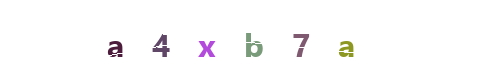4: (166, 0, 246, 80)
7: (205, 0, 285, 80)
A: (150, 0, 230, 80), (306, 0, 386, 80)
B: (201, 0, 281, 80)
X: (200, 0, 280, 80)
